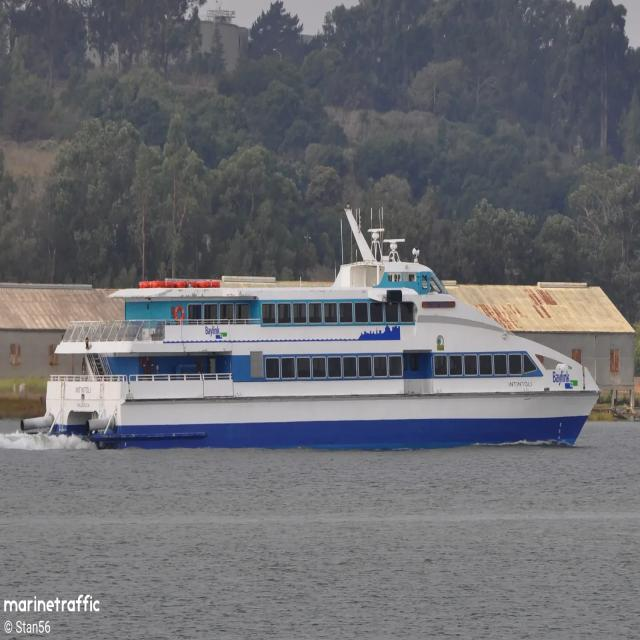Passenger: (22, 207, 599, 449)
